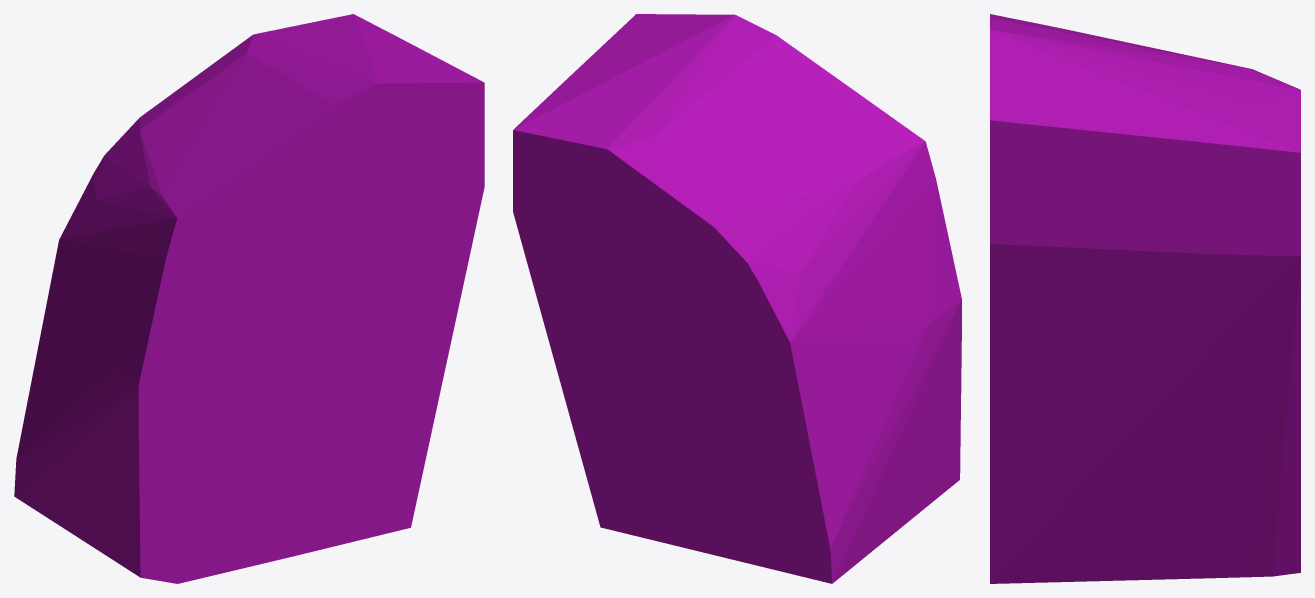
The picture shows the model from 3 angles, left to right: view 1: azimuth 30°, elevation 25°; view 2: azimuth 150°, elevation 25°; view 3: azimuth 270°, elevation 25°; orthographic projection. The views are drawn at different scales.
Bounding box in the file's own units: 0.0214 × 0.0267 × 0.014.
